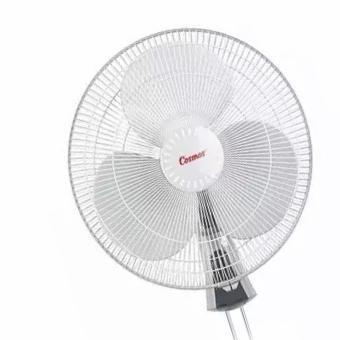fan: (62, 15, 312, 340)
